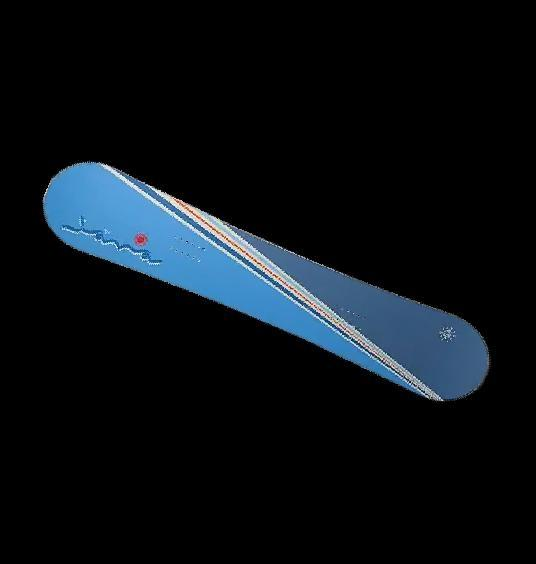Snowboard: (41, 160, 490, 403)
